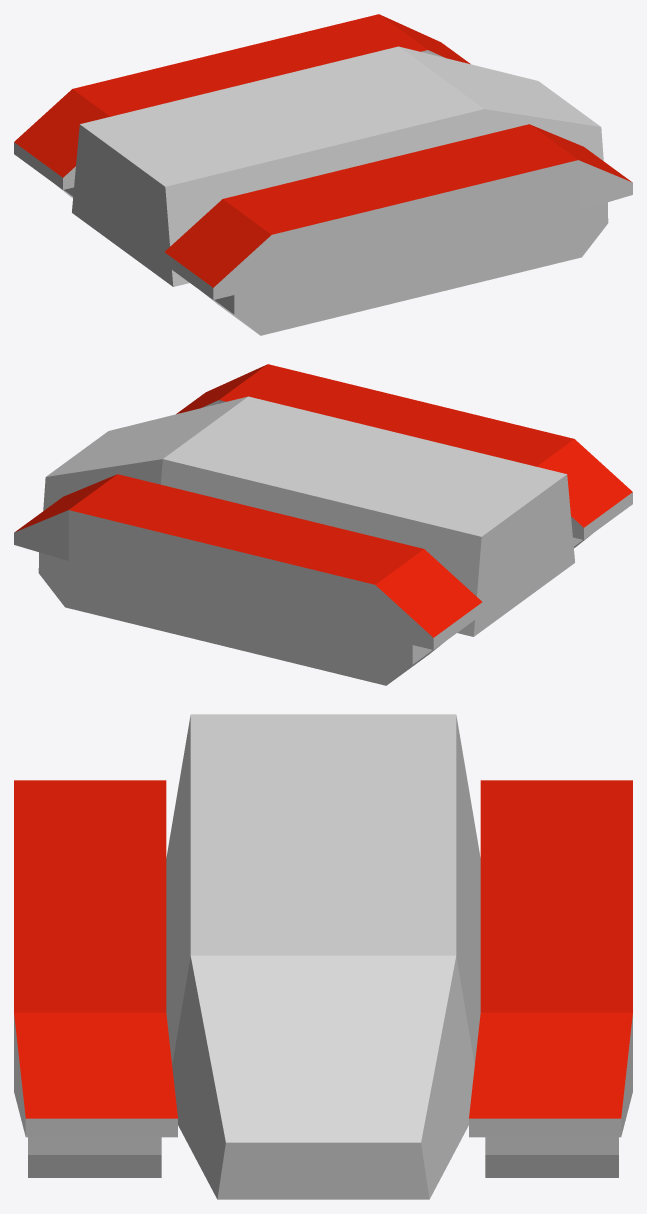
Rendered from enemyTank.fbx.
The picture shows the model from 3 angles, top to bottom: view 1: azimuth 30°, elevation 25°; view 2: azimuth 150°, elevation 25°; view 3: azimuth 270°, elevation 25°; orthographic projection. The views are drawn at different scales.
Visible parts, largest first — view 1: EnemyTank; view 2: EnemyTank; view 3: EnemyTank.
Boxes of the visible parts, x1,y1,x2,y2 form: EnemyTank: (14,14,632,335); EnemyTank: (14,364,632,685); EnemyTank: (14,714,632,1199).
Bounding box in the file's own units: 76.49 × 19.4 × 57.9.
